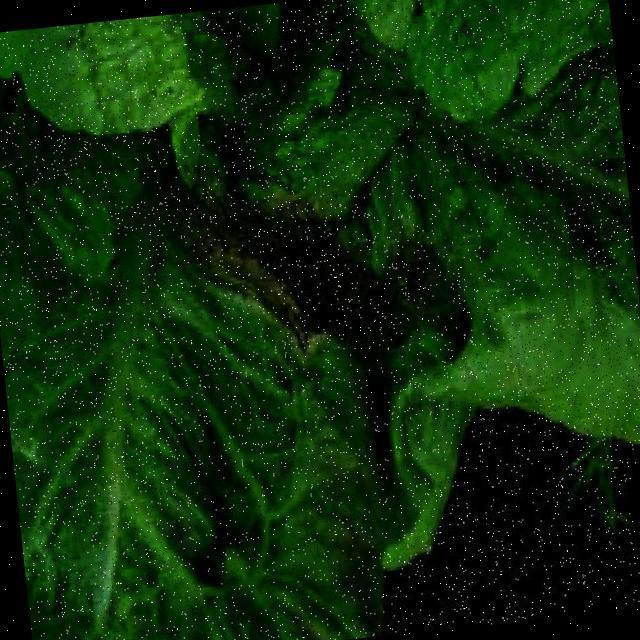Septoria_Blight: (127, 71, 489, 415)
